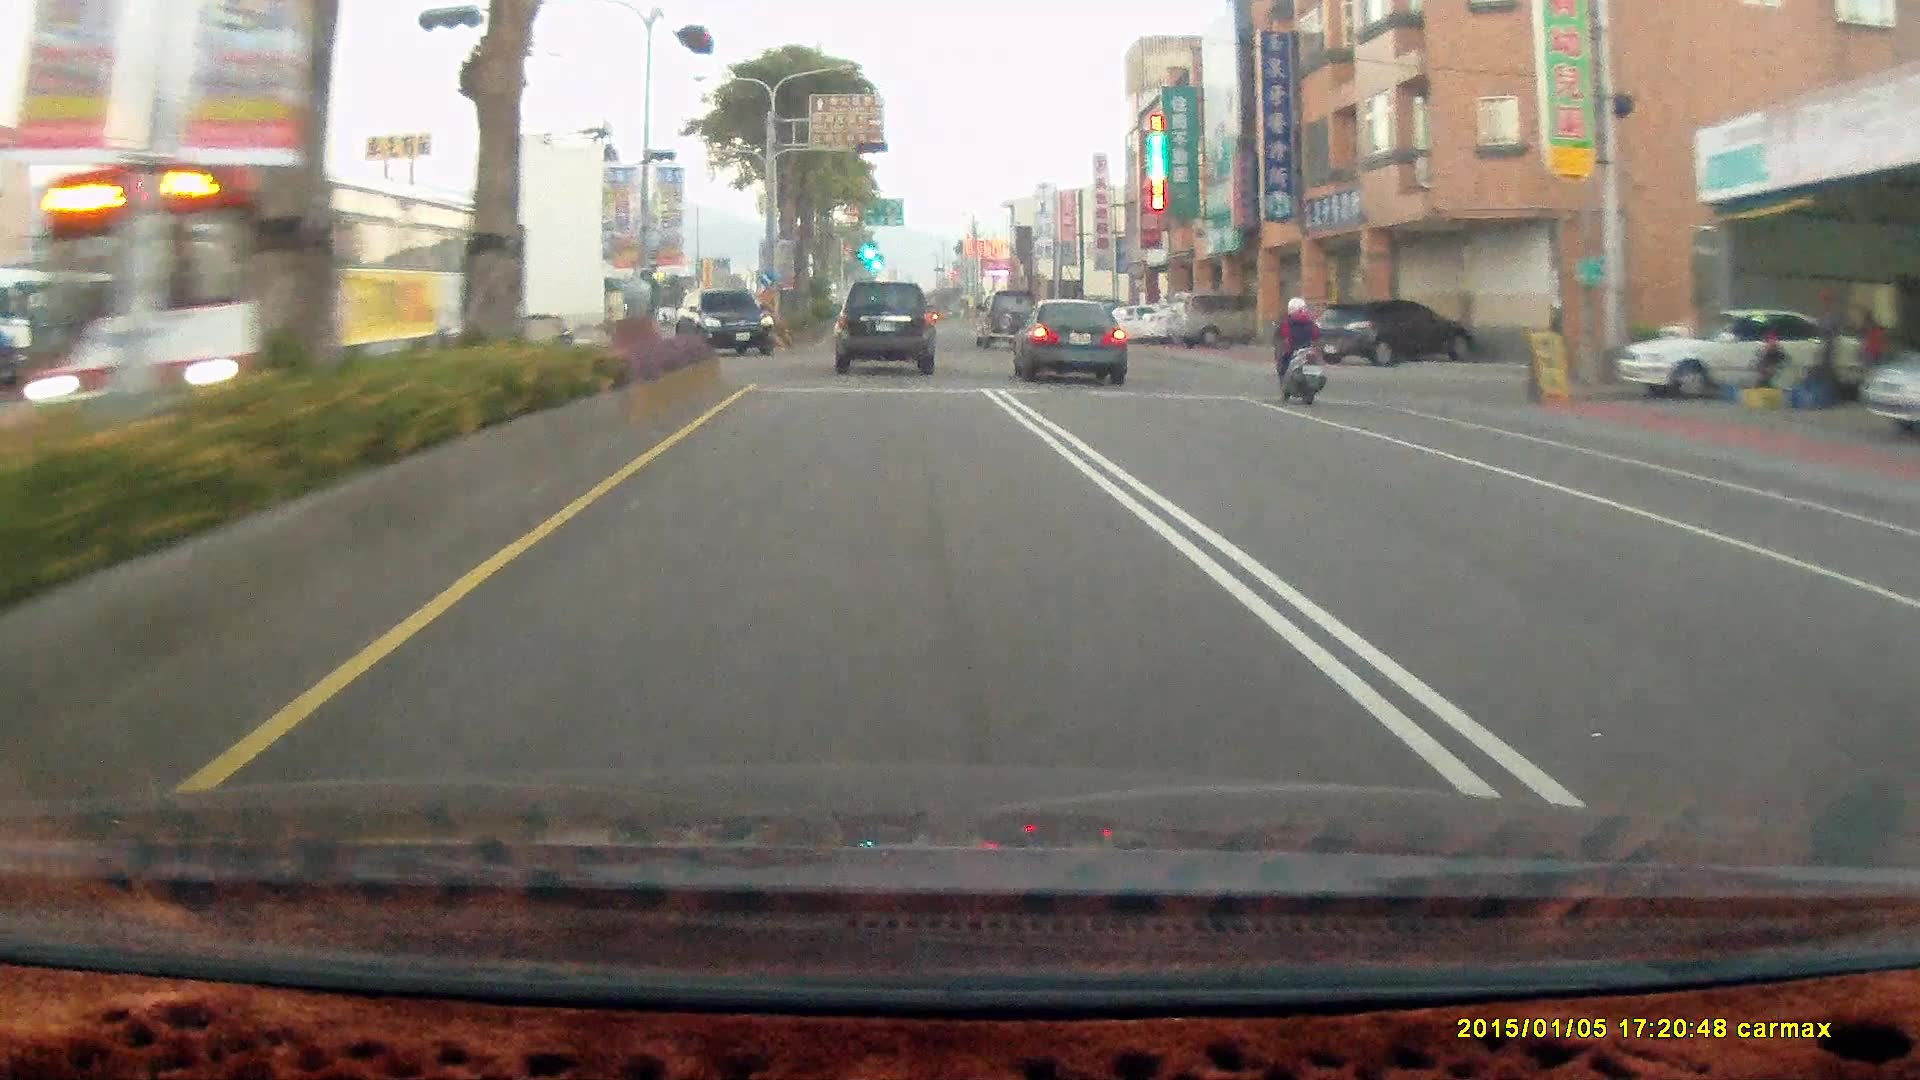pedestrian: (1815, 292, 1846, 408), (1858, 308, 1891, 413), (1755, 332, 1787, 403)
rider: (1259, 284, 1340, 418), (1268, 297, 1326, 406)
vehicle: (26, 146, 525, 441), (83, 149, 506, 414), (1613, 307, 1864, 401), (1617, 307, 1867, 401), (1307, 299, 1473, 366), (1011, 297, 1131, 388), (1307, 300, 1471, 367), (1007, 297, 1127, 384), (834, 281, 940, 375), (832, 279, 933, 373), (676, 288, 774, 361), (675, 287, 774, 354), (1167, 292, 1263, 354), (1168, 293, 1278, 347), (1858, 349, 1919, 432), (973, 287, 1039, 348), (1095, 303, 1177, 343)
